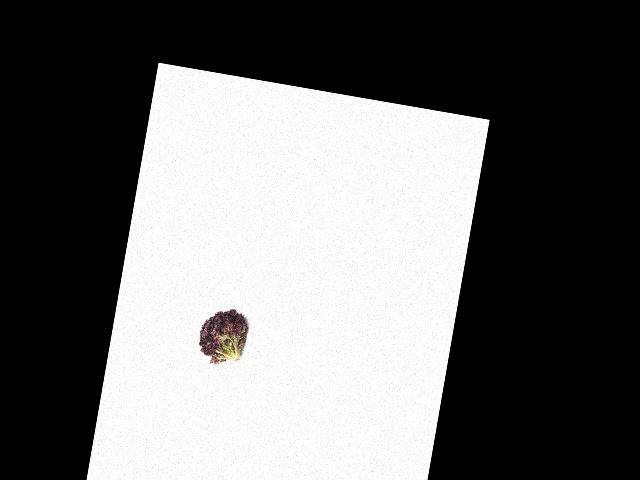lettuce: (193, 301, 254, 366)
